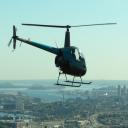helicopter: (9, 23, 118, 88)
